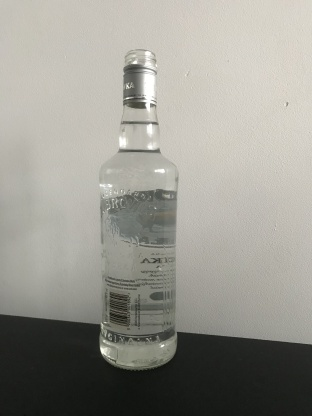nakretka: (120, 47, 159, 109)
